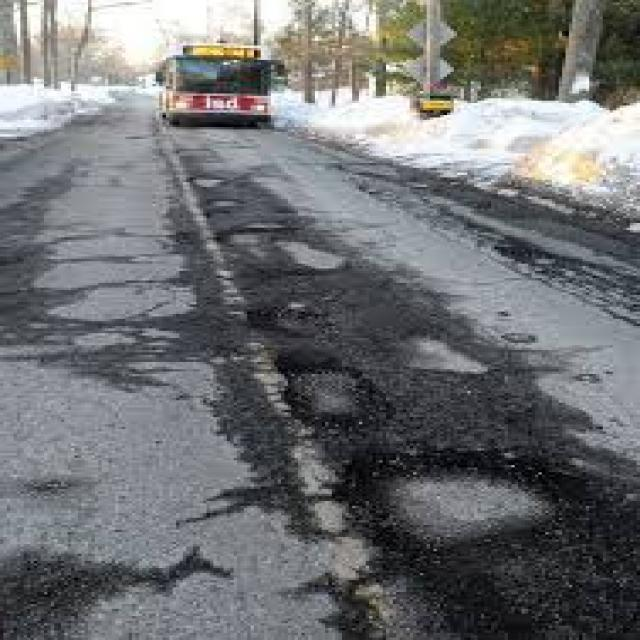Pothole: (331, 445, 593, 570), (273, 356, 399, 434), (245, 301, 337, 343)
